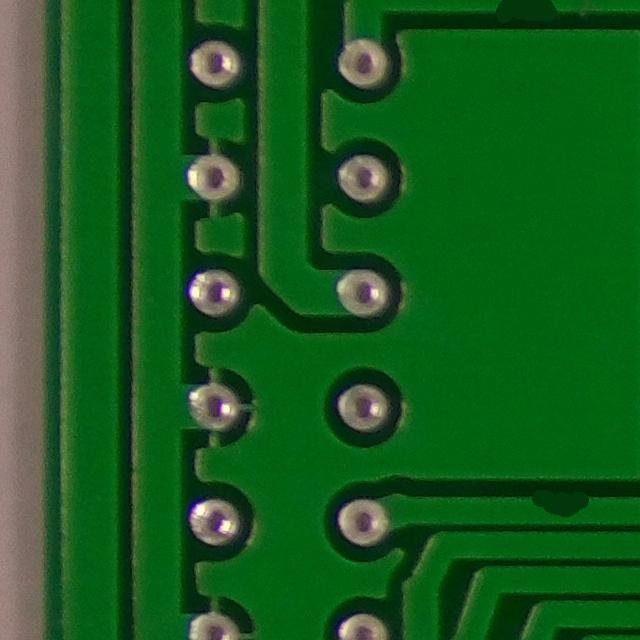mouse_bite: (513, 475, 606, 530)
